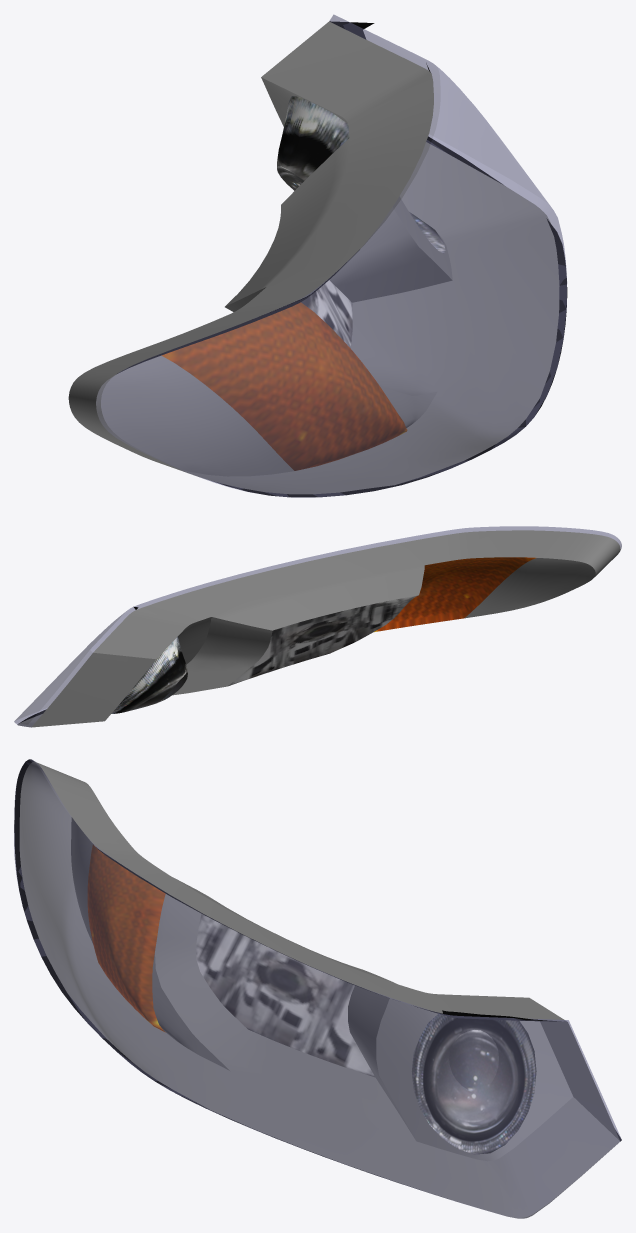
The picture shows the model from 3 angles, top to bottom: view 1: azimuth 30°, elevation 25°; view 2: azimuth 150°, elevation 25°; view 3: azimuth 270°, elevation 25°; orthographic projection. The views are drawn at different scales.
Visible parts, largest first — view 1: H031_061B_R_H031_061B_R_6_DTaSI, H031_061B_R_H031_061B_R_1_DaS, H031_061B_R_H031_061B_R_2_N, H031_061B_R_4_N_H031_061B_R, H031_061B_R_H031_061B_R_5_D, H031_061B_R_H031_061B_R_3_N; view 2: H031_061B_R_H031_061B_R_1_DaS, H031_061B_R_H031_061B_R_2_N, H031_061B_R_H031_061B_R_3_N, H031_061B_R_H031_061B_R_6_DTaSI, H031_061B_R_4_N_H031_061B_R; view 3: H031_061B_R_H031_061B_R_6_DTaSI, H031_061B_R_H031_061B_R_1_DaS, H031_061B_R_4_N_H031_061B_R, H031_061B_R_H031_061B_R_3_N, H031_061B_R_H031_061B_R_2_N, H031_061B_R_H031_061B_R_5_D.
Boxes of the visible parts, x1,y1,x2,y2 form: H031_061B_R_H031_061B_R_6_DTaSI: (96, 14, 567, 497); H031_061B_R_H031_061B_R_1_DaS: (68, 21, 559, 494); H031_061B_R_H031_061B_R_2_N: (162, 302, 407, 470); H031_061B_R_4_N_H031_061B_R: (277, 96, 445, 253); H031_061B_R_H031_061B_R_5_D: (117, 21, 567, 497); H031_061B_R_H031_061B_R_3_N: (301, 280, 352, 347); H031_061B_R_H031_061B_R_1_DaS: (17, 530, 620, 727); H031_061B_R_H031_061B_R_2_N: (374, 557, 536, 632); H031_061B_R_H031_061B_R_3_N: (228, 595, 417, 686); H031_061B_R_H031_061B_R_6_DTaSI: (14, 526, 621, 726); H031_061B_R_4_N_H031_061B_R: (111, 637, 187, 713); H031_061B_R_H031_061B_R_6_DTaSI: (14, 759, 621, 1218); H031_061B_R_H031_061B_R_1_DaS: (19, 761, 620, 1218); H031_061B_R_4_N_H031_061B_R: (412, 1014, 536, 1154); H031_061B_R_H031_061B_R_3_N: (195, 914, 374, 1076); H031_061B_R_H031_061B_R_2_N: (87, 844, 165, 1031); H031_061B_R_H031_061B_R_5_D: (14, 759, 621, 1184).
Size of the model in its own units: 55.64 by 19.68 by 53.55.
